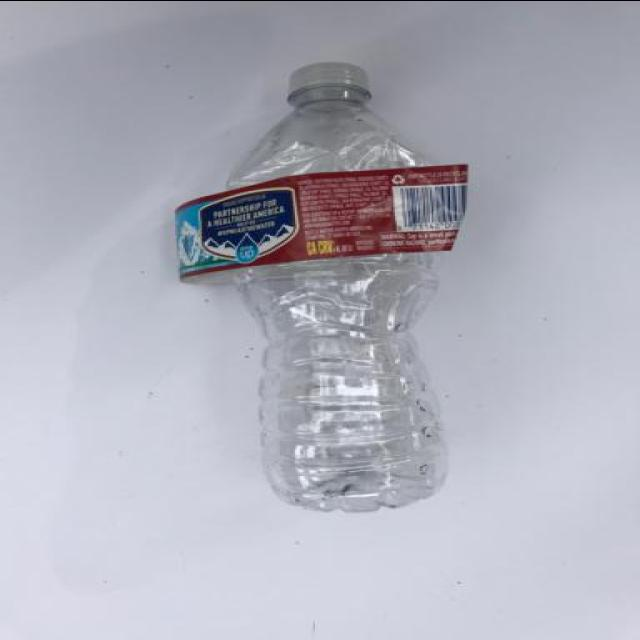PET: (167, 60, 475, 520)
